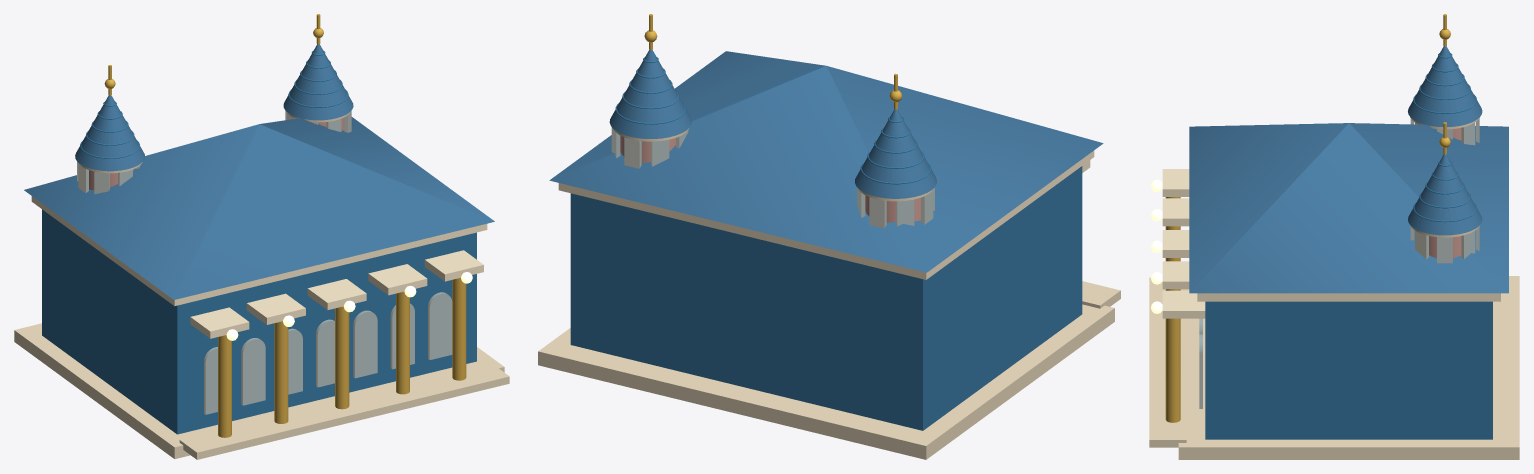
File: frozen.glb
3 renders of one model, left to right at view 1: azimuth 30°, elevation 25°; view 2: azimuth 150°, elevation 25°; view 3: azimuth 270°, elevation 25°, orthographic. The views are drawn at different scales.
Size of the model in its own units: 3.8 by 3.16 by 3.48.
